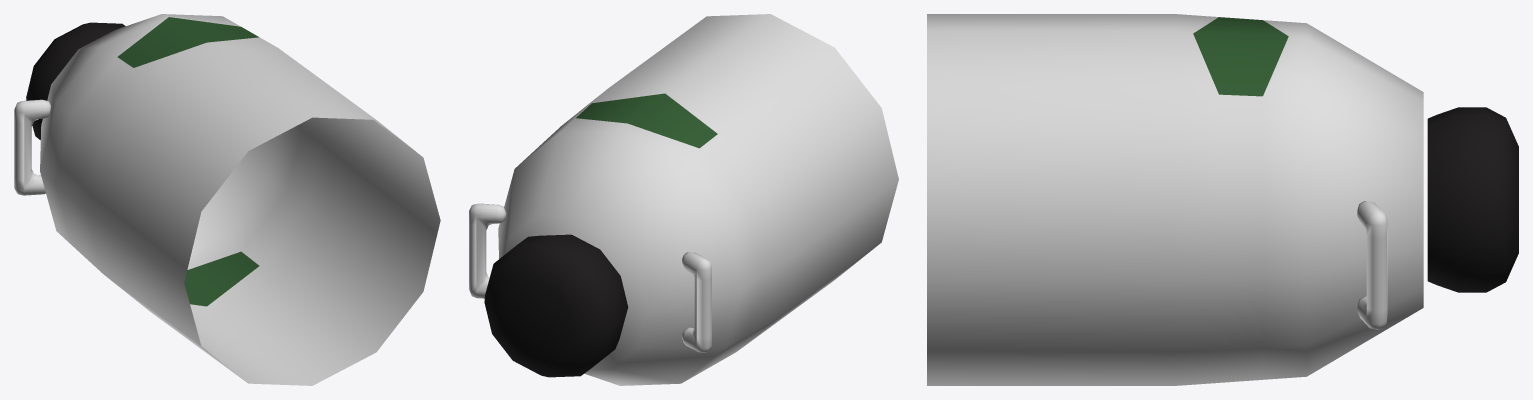
3 renders of one model, left to right at view 1: azimuth 30°, elevation 25°; view 2: azimuth 150°, elevation 25°; view 3: azimuth 270°, elevation 25°, orthographic. The views are drawn at different scales.
Parts seen in each view (by area): view 1: Circle; view 2: Circle; view 3: Circle.
Part boxes in pixels (x1,y1,x2,y2): Circle: (14,14,440,385); Circle: (469,14,898,385); Circle: (927,14,1518,385).
Bounding box in the file's own units: 49.95 × 49.95 × 79.18.
